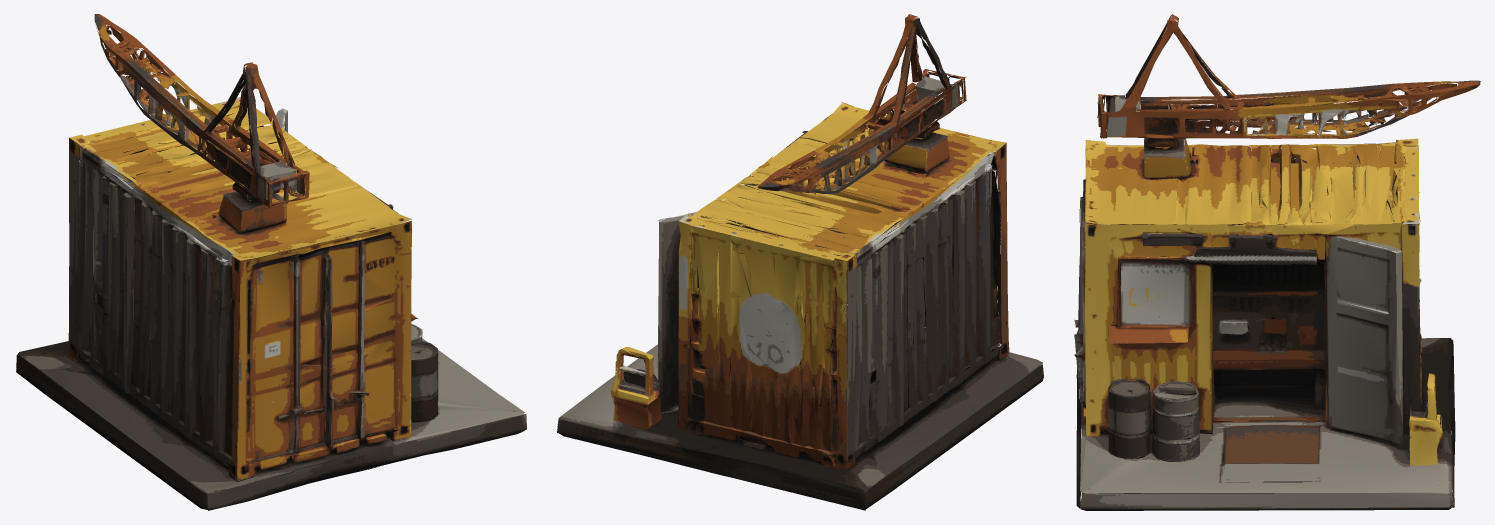
Rendered from workshop.glb.
3 renders of one model, left to right at view 1: azimuth 30°, elevation 25°; view 2: azimuth 150°, elevation 25°; view 3: azimuth 270°, elevation 25°, orthographic. The views are drawn at different scales.
Visible parts, largest first — view 1: workshop; view 2: workshop; view 3: workshop.
Part boxes in pixels (x1,y1,x2,y2): workshop: (16, 14, 526, 510); workshop: (557, 14, 1043, 510); workshop: (1074, 14, 1480, 510).
Size of the model in its own units: 2.36 by 2.74 by 2.6.
Materials: 1 (1 with a texture image).
